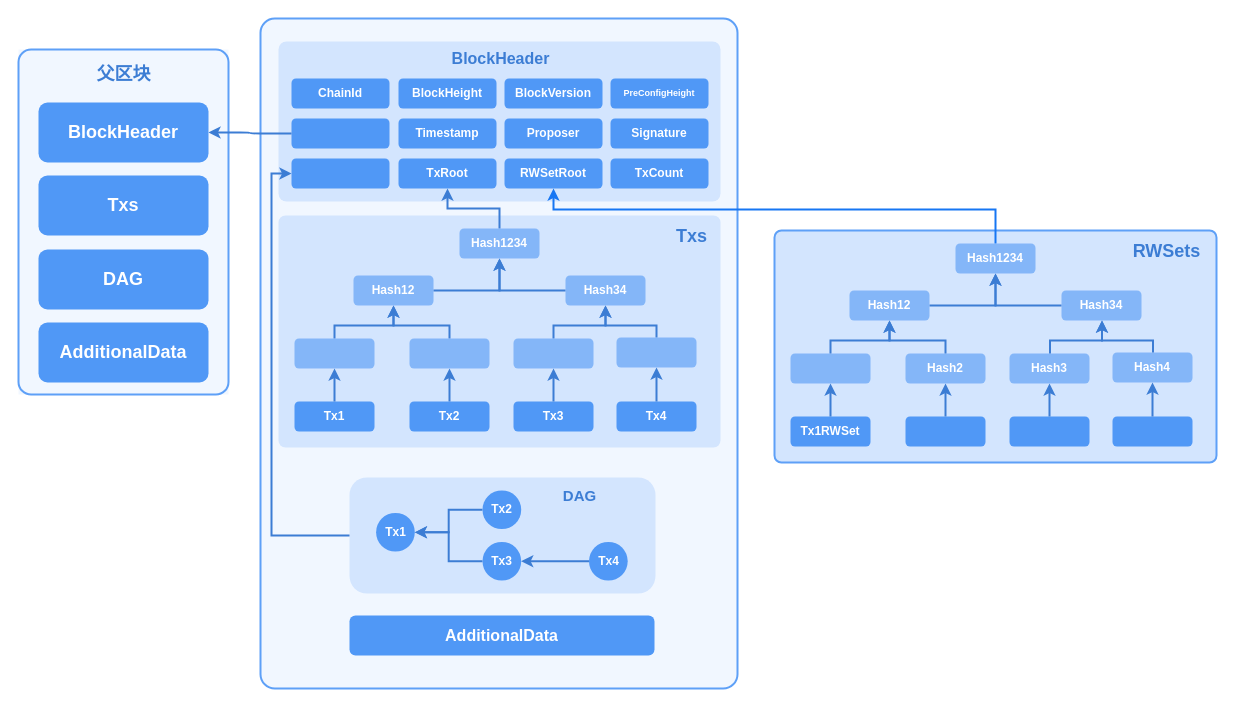
Image size: 1234x706. Some labels were removed from this diagram. Here are the shapes that lost their labels. From the top down, the centre of each, then its label:
(340,133): PreBlockHash
(340,173): DAGHash
(334,353): Hash(Tx1)
(449,353): Hash(Tx2)
(553,353): Hash(Tx3)
(656,352): Hash(Tx4)
(830,368): Hash1
(945,431): Tx2 RWSet
(1049,431): Tx3 RWSet
(1152,431): Tx4 RWSet
